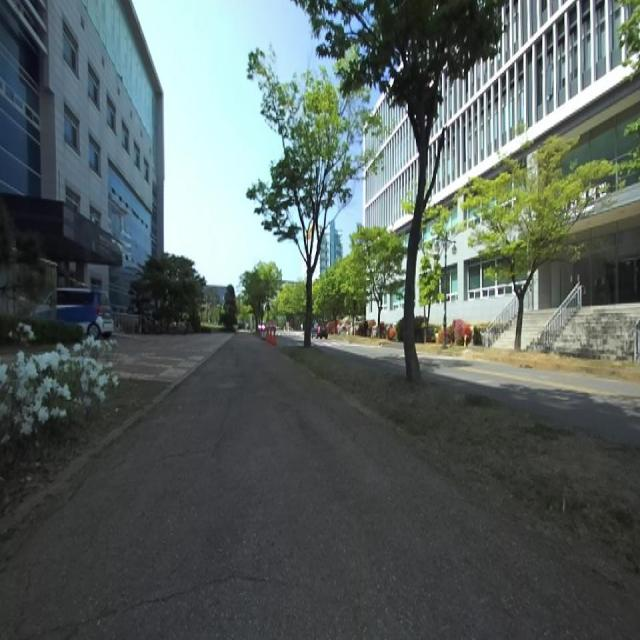sidewalk: (0, 331, 640, 639), (106, 332, 236, 383)
